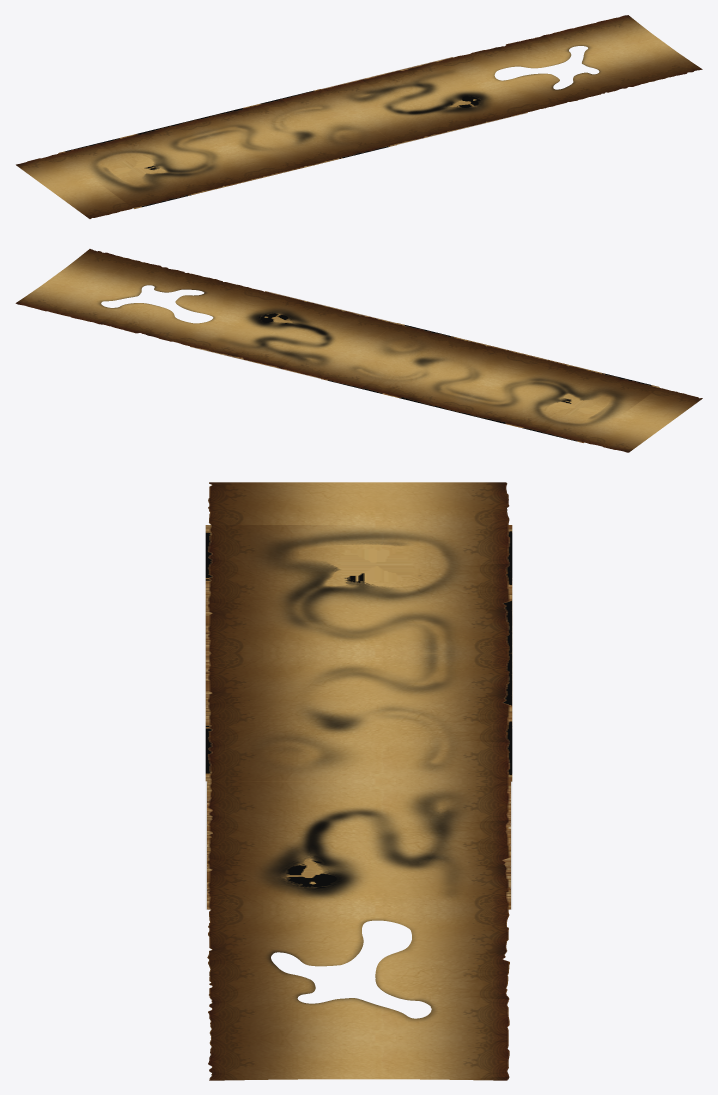
The model's file is BIGMAP_DX_02.FBX.
The picture shows the model from 3 angles, top to bottom: view 1: azimuth 30°, elevation 25°; view 2: azimuth 150°, elevation 25°; view 3: azimuth 270°, elevation 25°; orthographic projection. The views are drawn at different scales.
Visible parts, largest first — view 1: Plane34, Plane44, Plane54, Plane08, Plane68, Plane67; view 2: Plane34, Plane44, Plane54, Plane08, Plane68, Plane67; view 3: Plane34, Plane44, Plane54, Plane08, Plane68, Plane67.
Part boxes in pixels (left/top/right/bottom): Plane34: left=321, top=57, right=528, bottom=144; Plane44: left=189, top=89, right=396, bottom=176; Plane54: left=58, top=121, right=265, bottom=208; Plane08: left=453, top=25, right=658, bottom=111; Plane68: left=16, top=154, right=132, bottom=218; Plane67: left=584, top=15, right=702, bottom=79; Plane34: left=189, top=291, right=396, bottom=378; Plane44: left=321, top=323, right=528, bottom=410; Plane54: left=452, top=355, right=659, bottom=442; Plane08: left=59, top=259, right=264, bottom=345; Plane68: left=584, top=388, right=702, bottom=452; Plane67: left=15, top=249, right=132, bottom=313; Plane34: left=205, top=781, right=512, bottom=909; Plane44: left=205, top=653, right=512, bottom=781; Plane54: left=205, top=525, right=512, bottom=653; Plane08: left=207, top=909, right=509, bottom=1037; Plane68: left=208, top=482, right=509, bottom=524; Plane67: left=208, top=1038, right=509, bottom=1080.
Size of the model in its own units: 3234 by 1.99e-13 by 700.
